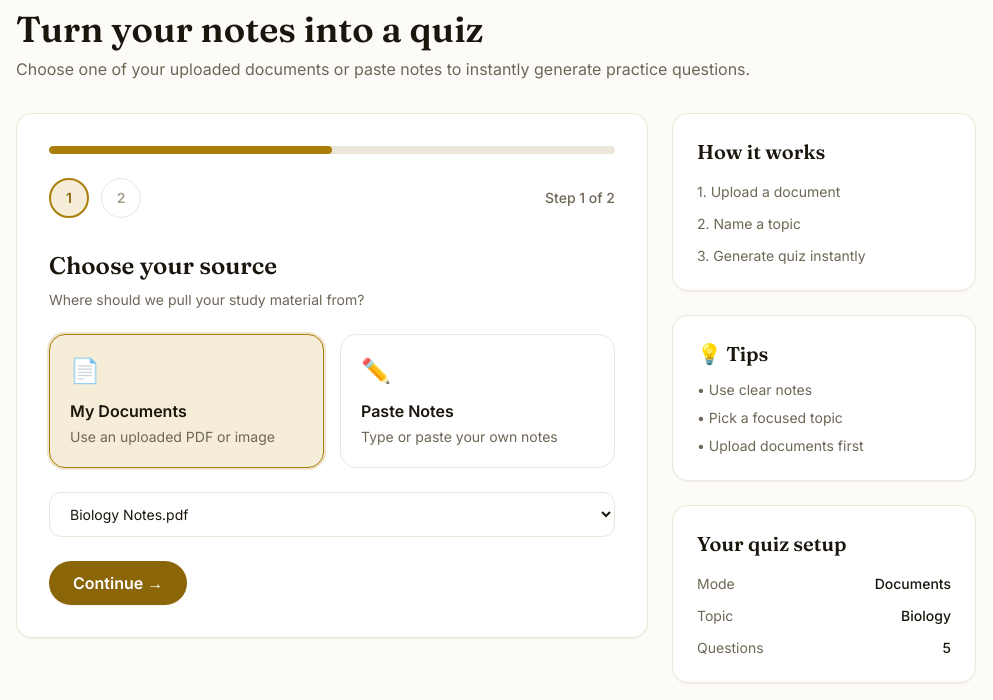
Scenario: QuizGenerator — Step 2: Configuration and generation › generate button is enabled when topic is entered
This screenshot has width=993, height=700.
Click the button "Continue →": (118, 583) top-left (49, 561), bottom-right (187, 605)
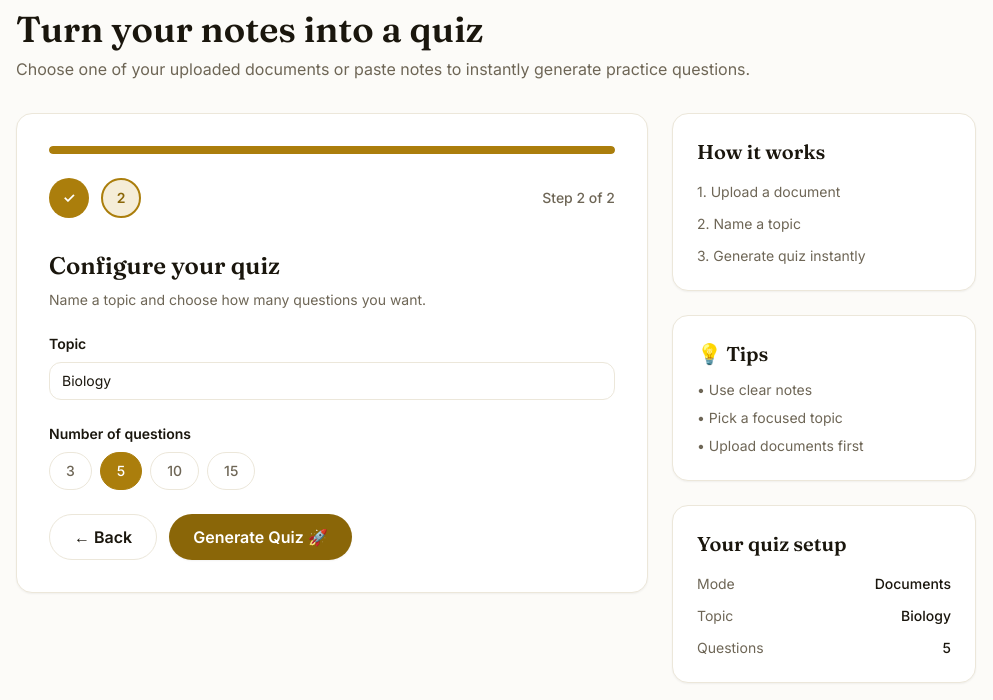
Now the button "Generate Quiz 🚀" is enabled, box top-left (169, 514), bottom-right (352, 560)
